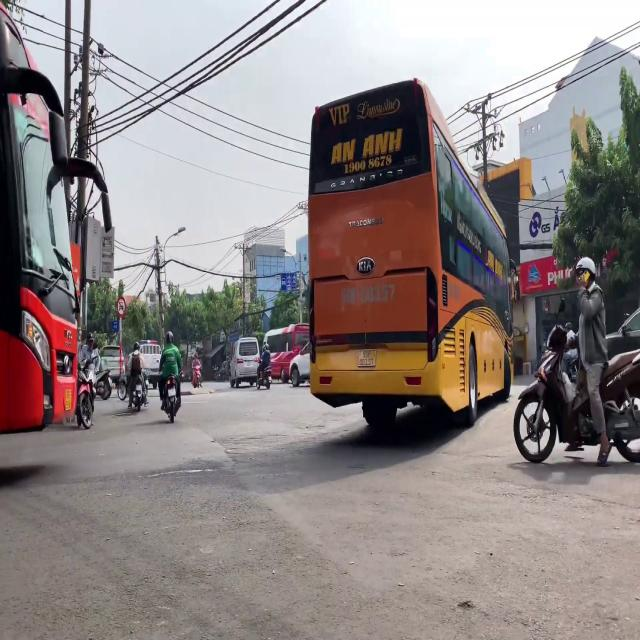bien_vang: (357, 348, 376, 368)
